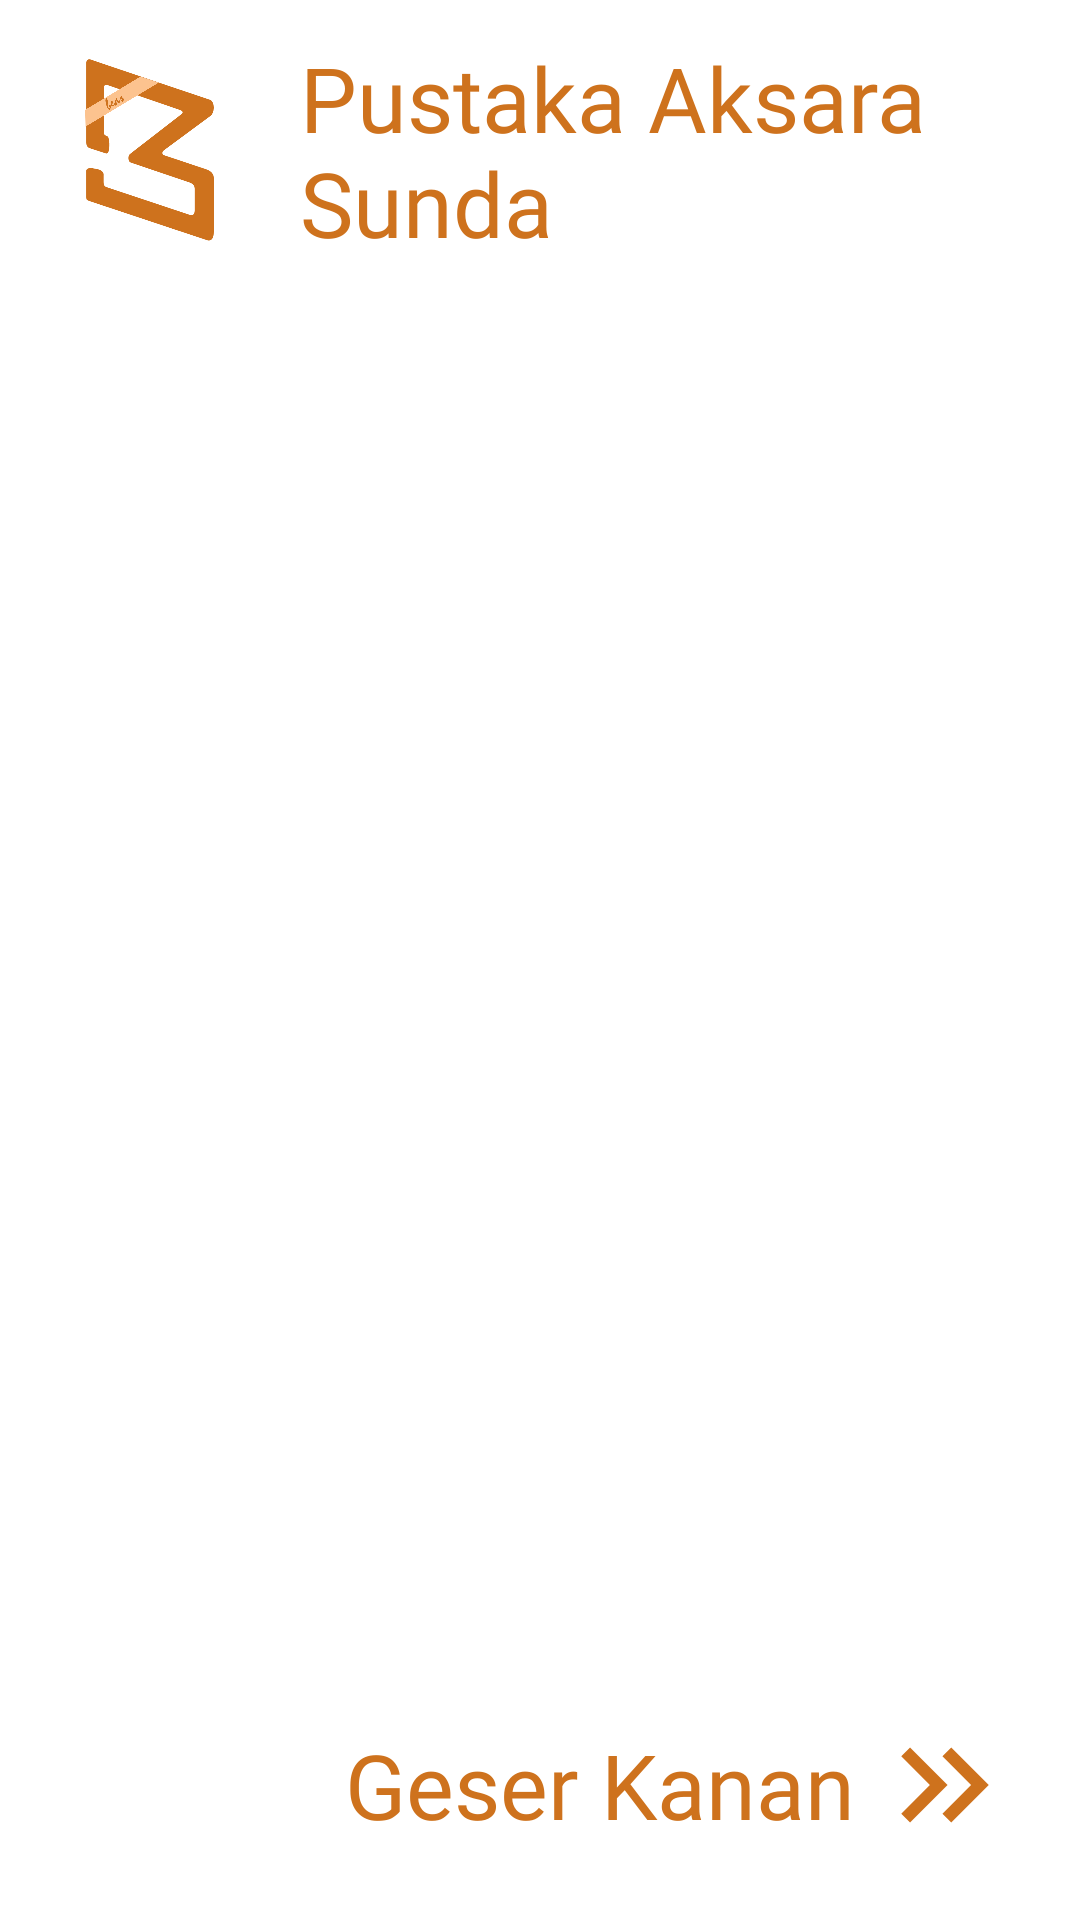

Screen size 1080*1920. Icon name, then its center in pixels as (x=x, y=y):
rightarrow: (x=945, y=1785)
